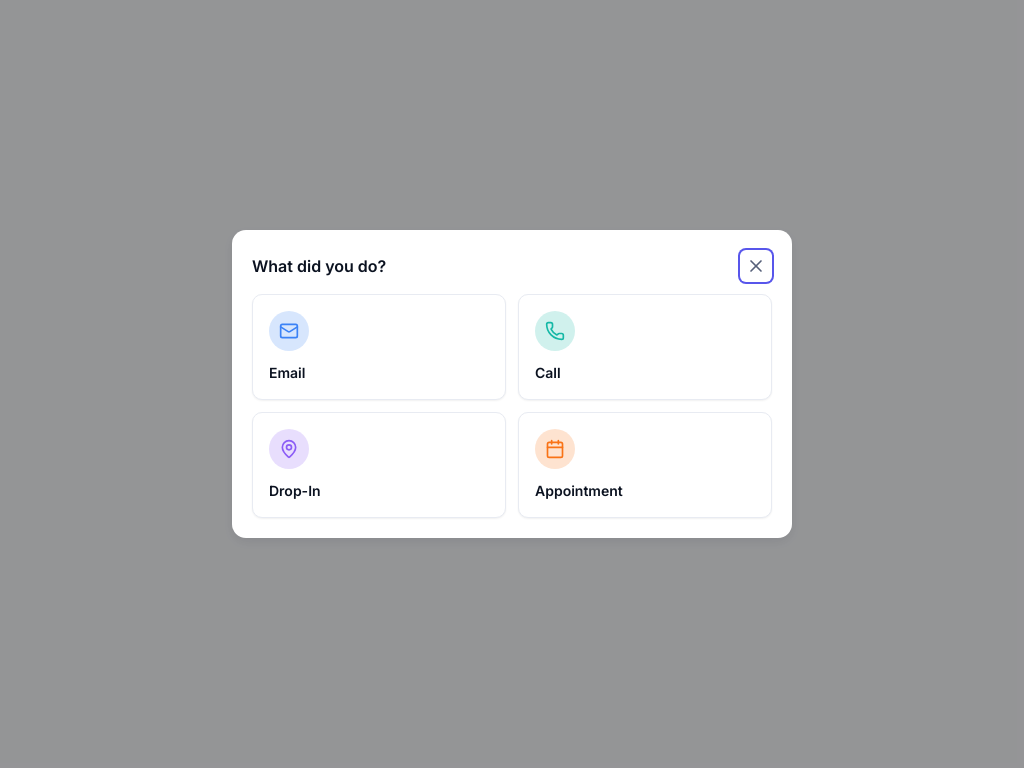
Test: LogActivitySheet — type picker › routes Drop-In → form without duration field
The width and height of the screenshot is (1024, 768).
Click the button "Drop-In": (379, 465) left=252, top=412, right=506, bottom=518
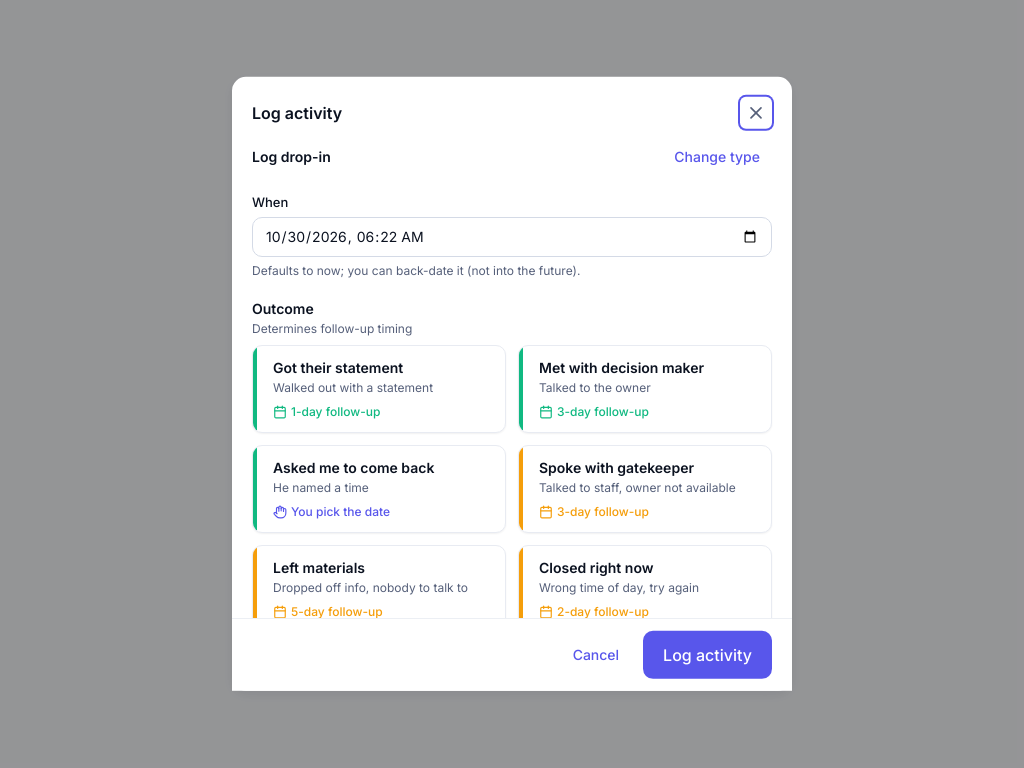
Result: the heading "Log drop-in" is shown at left=252, top=147, right=331, bottom=167
